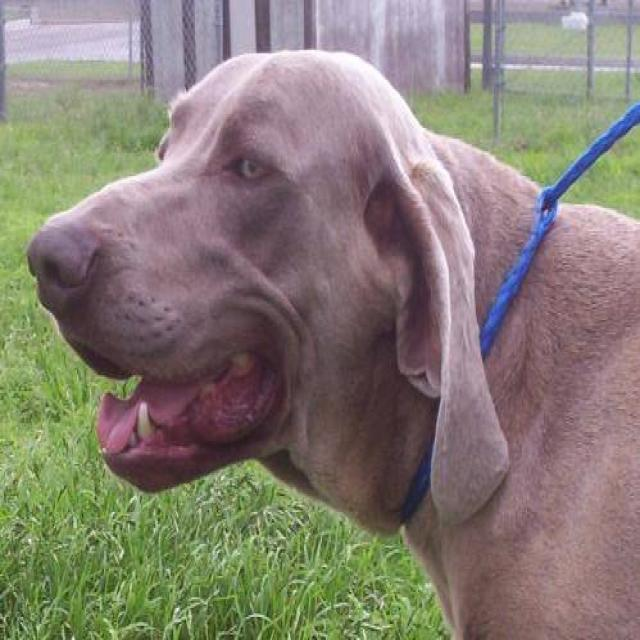dog: (26, 46, 638, 638)
